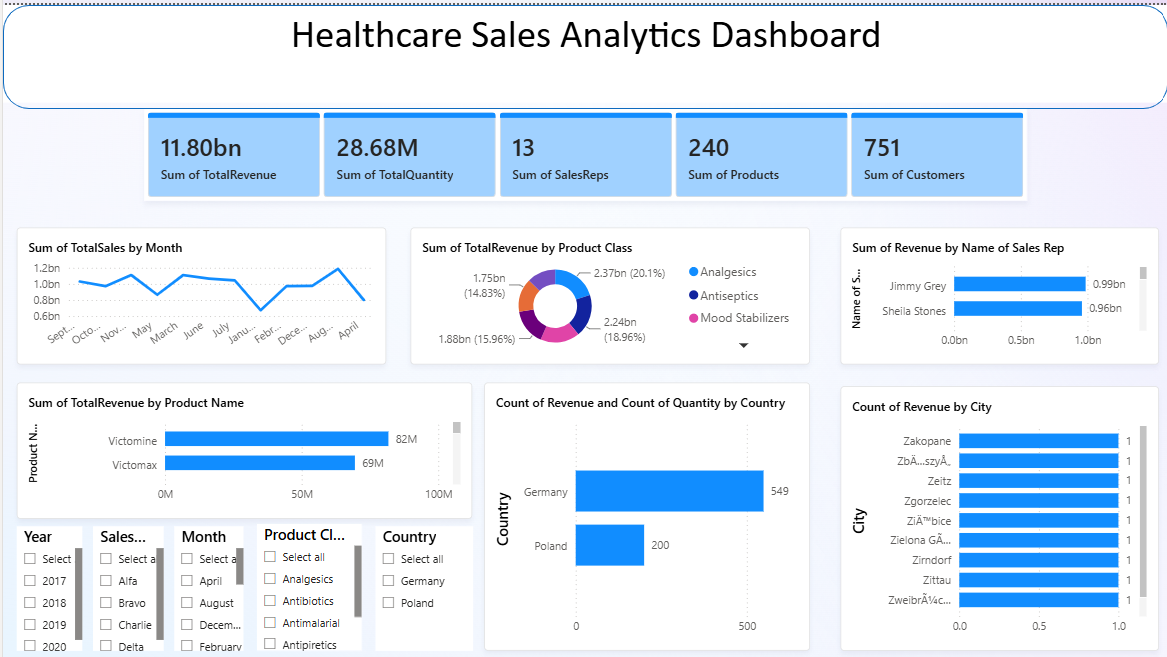

Layout of this report page (visuals, bound fields, positions):
{"tool":"powerbi","page":{"name":"Page 1","canvas":[1280,720],"ordinal":0},"visuals":[{"type":"cardVisual","fields":{"Data":["Sum(vw_dashboard_kpis.TotalRevenue)","Sum(vw_dashboard_kpis.TotalQuantity)","Sum(vw_dashboard_kpis.SalesReps)","Sum(vw_dashboard_kpis.Products)","Sum(vw_dashboard_kpis.Customers)"]},"box":[154.9,114.1,970.4,101.4],"z":0},{"type":"textbox","box":[0,0,1280.3,107],"z":3},{"type":"lineChart","fields":{"Category":["vw_monthly_sales.Month"],"Y":["Sum(vw_monthly_sales.TotalSales)"]},"box":[15.5,243.7,405.6,150.7],"z":4},{"type":"clusteredBarChart","fields":{"Y":["Sum(vw_product_performance.TotalRevenue)"],"Category":["vw_product_performance.Product Name"]},"box":[15.5,414.1,500,149.3],"z":5},{"type":"donutChart","fields":{"Category":["vw_product_performance.Product Class"],"Y":["Sum(vw_product_performance.TotalRevenue)"]},"box":[447.9,243.7,438,150.7],"z":6},{"type":"clusteredBarChart","fields":{"Category":["vw_geographic_sales.Country"],"Y":["CountNonNull(vw_geographic_sales.Revenue)"]},"box":[528.2,414.1,357.7,294.4],"z":7},{"type":"clusteredBarChart","fields":{"Y":["Sum(vw_sales_rep_performance.Revenue)"],"Category":["vw_sales_rep_performance.Name of Sales Rep"]},"box":[919.7,243.7,349.3,150.7],"z":8},{"type":"slicer","fields":{"Values":["vw_monthly_sales.Year"]},"box":[15.5,571.8,71.8,136.6],"z":9},{"type":"slicer","fields":{"Values":["vw_geographic_sales.Country"]},"box":[408.5,571.8,107,136.6],"z":10},{"type":"slicer","fields":{"Values":["vw_product_performance.Product Class"]},"box":[278.9,569,115.5,139.4],"z":11},{"type":"slicer","fields":{"Values":["vw_monthly_sales.Month"]},"box":[187.3,571.8,76.1,136.6],"z":12},{"type":"slicer","fields":{"Values":["vw_sales_rep_performance.Sales Team"]},"box":[98.6,571.8,77.5,136.6],"z":13},{"type":"clusteredBarChart","fields":{"Category":["vw_geographic_sales.City"],"Y":["CountNonNull(vw_geographic_sales.Revenue)"]},"box":[919.7,418.3,349.3,290.1],"z":14},{"type":"shape","box":[0,0,1280.3,114.1],"z":15}]}

Visuals, with their boxes in screenshot pixels (x1, y1, x2, y2), scaled from the page's 1280x720 canvas onto the 1167x657 screenshot:
cardVisual - Sum(vw_dashboard_kpis.TotalRevenue) x Sum(vw_dashboard_kpis.TotalQuantity): <region>141, 104, 1026, 197</region>
textbox: <region>0, 0, 1166, 98</region>
lineChart - vw_monthly_sales.Month x Sum(vw_monthly_sales.TotalSales): <region>14, 222, 384, 360</region>
clusteredBarChart - Sum(vw_product_performance.TotalRevenue) x vw_product_performance.Product Name: <region>14, 378, 470, 514</region>
donutChart - vw_product_performance.Product Class x Sum(vw_product_performance.TotalRevenue): <region>408, 222, 808, 360</region>
clusteredBarChart - vw_geographic_sales.Country x CountNonNull(vw_geographic_sales.Revenue): <region>482, 378, 808, 647</region>
clusteredBarChart - Sum(vw_sales_rep_performance.Revenue) x vw_sales_rep_performance.Name of Sales Rep: <region>839, 222, 1157, 360</region>
slicer - vw_monthly_sales.Year: <region>14, 522, 80, 646</region>
slicer - vw_geographic_sales.Country: <region>372, 522, 470, 646</region>
slicer - vw_product_performance.Product Class: <region>254, 519, 360, 646</region>
slicer - vw_monthly_sales.Month: <region>171, 522, 240, 646</region>
slicer - vw_sales_rep_performance.Sales Team: <region>90, 522, 161, 646</region>
clusteredBarChart - vw_geographic_sales.City x CountNonNull(vw_geographic_sales.Revenue): <region>839, 382, 1157, 646</region>
shape: <region>0, 0, 1166, 104</region>
